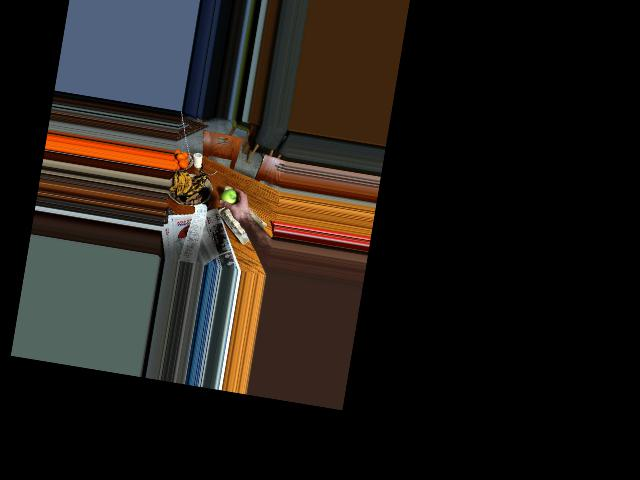apple: (219, 186, 243, 209)
